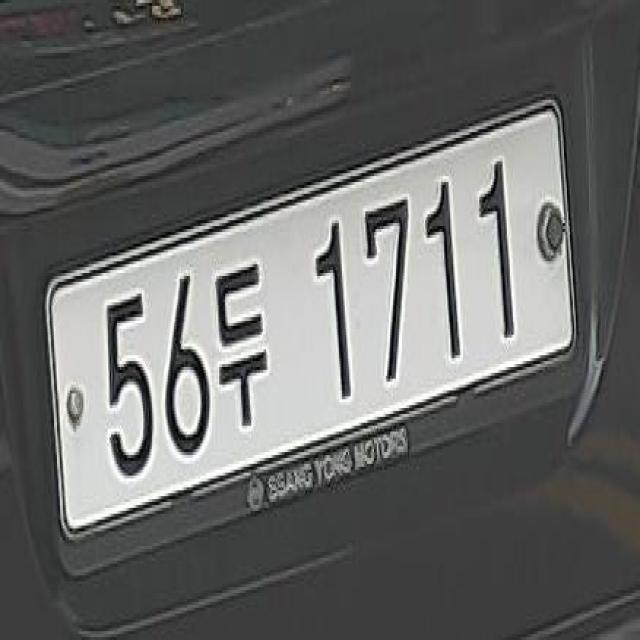illegal_plate: (47, 96, 581, 570)
